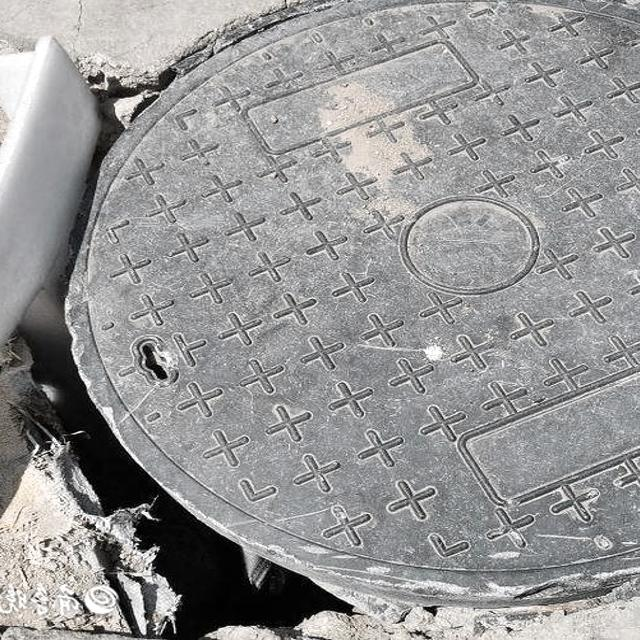circle: (0, 0, 640, 620)
